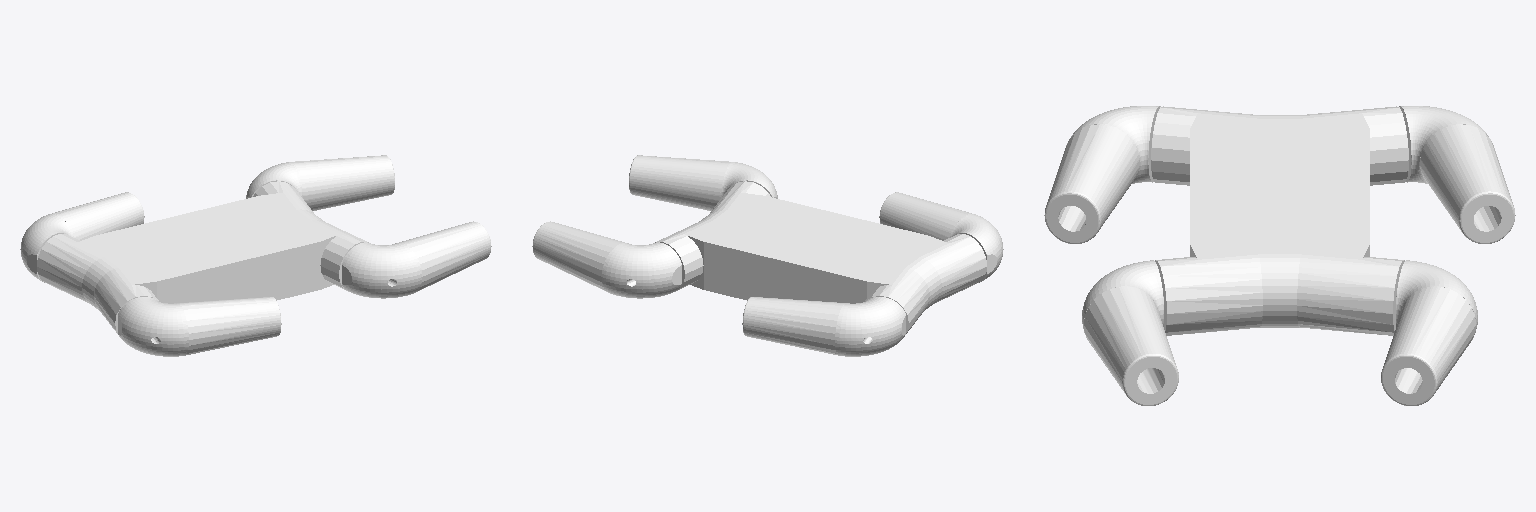
The robot description file, URDF, robot "12_degree":
<?xml version="1.0" encoding="utf-8"?>
<!-- This URDF was automatically created by SolidWorks to URDF Exporter! Originally created by [author] ([email redacted]) 
     Commit Version: 1.5.1-0-g916b5db  Build Version: 1.5.7152.31018
     For more information, please see http://wiki.ros.org/sw_urdf_exporter -->
<robot
  name="12_degree">
  <link
    name="base_link">
    <inertial>
      <origin
        xyz="2.0817E-17 2.9525E-08 1.7347E-18"
        rpy="0 0 0" />
      <mass
        value="2.942" />
      <inertia
        ixx="0.0101107"
        ixy="6.5513E-19"
        ixz="-1.5307E-10"
        iyy="0.0420182"
        iyz="2.0979E-18"
        izz="0.0497344" />
    </inertial>
    <visual>
      <origin
        xyz="0 0 0"
        rpy="0 0 0" />
      <geometry>
        <mesh
          filename="package://12_degree/meshes/base_link.STL" />
      </geometry>
      <material
        name="">
        <color
          rgba="1 1 1 1" />
      </material>
    </visual>
    <collision>
      <origin
        xyz="0 0 0"
        rpy="0 0 0" />
      <geometry>
        <mesh
          filename="package://12_degree/meshes/base_link.STL" />
      </geometry>
    </collision>
  </link>
  <link
    name="left_front_link">
    <inertial>
      <origin
        xyz="-2.2934E-08 0.05683 -0.036011"
        rpy="0 0 0" />
      <mass
        value="0.092" />
      <inertia
        ixx="0.0002604"
        ixy="7.9199E-10"
        ixz="7.8589E-10"
        iyy="0.0000526"
        iyz="2.27E-05"
        izz="0.0002575" />
    </inertial>
    <visual>
      <origin
        xyz="0 0 0"
        rpy="0 0 0" />
      <geometry>
        <mesh
          filename="package://12_degree/meshes/left_front_link.STL" />
      </geometry>
      <material
        name="">
        <color
          rgba="1 1 1 1" />
      </material>
    </visual>
    <collision>
      <origin
        xyz="0 0 0"
        rpy="0 0 0" />
      <geometry>
        <mesh
          filename="package://12_degree/meshes/left_front_link.STL" />
      </geometry>
    </collision>
  </link>
  <joint
    name="left_front_leg"
    type="continuous">
    <origin
      xyz="0.15141 0.10075 0"
      rpy="1.7802 1.5708 0" />
    <parent
      link="base_link" />
    <child
      link="left_front_link" />
    <axis
      xyz="0 0 -1" />
    <limit
      effort="5"
      velocity="487" />
  </joint>
  <link
    name="right_front_link">
    <inertial>
      <origin
        xyz="2.2934E-08 0.05683 0.036011"
        rpy="0 0 0" />
      <mass
        value="0.092" />
      <inertia
        ixx="0.0002604"
        ixy="-7.9199E-10"
        ixz="7.8589E-10"
        iyy="0.0000526"
        iyz="-2.27E-05"
        izz="0.0002575" />
    </inertial>
    <visual>
      <origin
        xyz="0 0 0"
        rpy="0 0 0" />
      <geometry>
        <mesh
          filename="package://12_degree/meshes/right_front_link.STL" />
      </geometry>
      <material
        name="">
        <color
          rgba="1 1 1 1" />
      </material>
    </visual>
    <collision>
      <origin
        xyz="0 0 0"
        rpy="0 0 0" />
      <geometry>
        <mesh
          filename="package://12_degree/meshes/right_front_link.STL" />
      </geometry>
    </collision>
  </link>
  <joint
    name="right_front_leg"
    type="continuous">
    <origin
      xyz="0.15141 -0.10075 0"
      rpy="1.3614 1.5708 0" />
    <parent
      link="base_link" />
    <child
      link="right_front_link" />
    <axis
      xyz="0 0 1" />
    <limit
      effort="5"
      velocity="487" />
  </joint>
  <link
    name="right_back_link">
    <inertial>
      <origin
        xyz="1.3042E-09 0.05683 0.036011"
        rpy="0 0 0" />
      <mass
        value="0.092" />
      <inertia
        ixx="0.0002604"
        ixy="-5.3076E-10"
        ixz="5.8227E-10"
        iyy="0.0000526"
        iyz="-2.27E-05"
        izz="0.0002575" />
    </inertial>
    <visual>
      <origin
        xyz="0 0 0"
        rpy="0 0 0" />
      <geometry>
        <mesh
          filename="package://12_degree/meshes/right_back_link.STL" />
      </geometry>
      <material
        name="">
        <color
          rgba="1 1 1 1" />
      </material>
    </visual>
    <collision>
      <origin
        xyz="0 0 0"
        rpy="0 0 0" />
      <geometry>
        <mesh
          filename="package://12_degree/meshes/right_back_link.STL" />
      </geometry>
    </collision>
  </link>
  <joint
    name="right_back_leg"
    type="continuous">
    <origin
      xyz="-0.15141 -0.10075 0"
      rpy="1.7802 1.5708 0" />
    <parent
      link="base_link" />
    <child
      link="right_back_link" />
    <axis
      xyz="0 0 1" />
    <limit
      effort="5"
      velocity="487" />
  </joint>
  <link
    name="left_back_link">
    <inertial>
      <origin
        xyz="-1.3042E-09 0.05683 -0.036011"
        rpy="0 0 0" />
      <mass
        value="0.092" />
      <inertia
        ixx="0.0002604"
        ixy="5.3076E-10"
        ixz="5.8227E-10"
        iyy="0.0000526"
        iyz="2.27E-05"
        izz="0.0002575" />
    </inertial>
    <visual>
      <origin
        xyz="0 0 0"
        rpy="0 0 0" />
      <geometry>
        <mesh
          filename="package://12_degree/meshes/left_back_link.STL" />
      </geometry>
      <material
        name="">
        <color
          rgba="1 1 1 1" />
      </material>
    </visual>
    <collision>
      <origin
        xyz="0 0 0"
        rpy="0 0 0" />
      <geometry>
        <mesh
          filename="package://12_degree/meshes/left_back_link.STL" />
      </geometry>
    </collision>
  </link>
  <joint
    name="left_back_leg"
    type="continuous">
    <origin
      xyz="-0.15141 0.10075 0"
      rpy="1.3614 1.5708 0" />
    <parent
      link="base_link" />
    <child
      link="left_back_link" />
    <axis
      xyz="0 0 -1" />
    <limit
      effort="5"
      velocity="487" />
  </joint>
</robot>

--- Render facts (derived) ---
3 views of the same robot in one strip: view 1: azimuth 30°, elevation 25°; view 2: azimuth 150°, elevation 25°; view 3: azimuth 270°, elevation 25° (orthographic).
Model 12_degree with 5 links and 4 joints (4 continuous), rooted at base_link, posed all joints at 0.
Links seen in each view (by area): view 1: base_link, right_back_link, right_front_link, left_front_link, left_back_link; view 2: base_link, left_back_link, left_front_link, right_front_link, right_back_link; view 3: base_link, right_back_link, left_back_link, left_front_link, right_front_link.
Boxes of the visible links, x1,y1,x2,y2 form: base_link: (37,181,368,333); right_back_link: (118,297,281,356); right_front_link: (342,221,491,298); left_front_link: (246,155,394,210); left_back_link: (20,192,144,282); base_link: (655,181,986,333); left_back_link: (742,297,905,356); left_front_link: (532,221,681,298); right_front_link: (629,155,777,210); right_back_link: (879,192,1003,282); base_link: (1151,106,1408,335); right_back_link: (1044,106,1160,243); left_back_link: (1399,106,1515,243); left_front_link: (1381,260,1477,405); right_front_link: (1082,260,1178,405).
Size in the robot's own frame: 0.5035 by 0.3923 by 0.064 metres.
Meshes: 5 distinct files referenced, 5 mesh visuals loaded (5 binary STL).